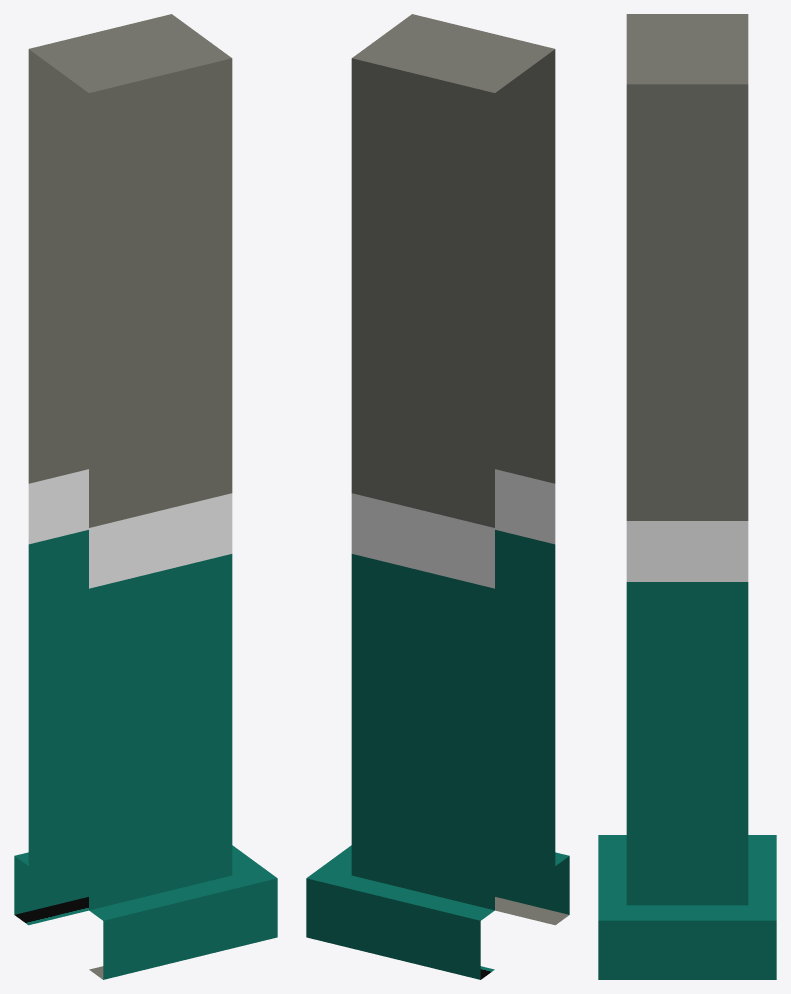
The model's file is IndoorWallEnd.fbx.
3 renders of one model, left to right at view 1: azimuth 30°, elevation 25°; view 2: azimuth 150°, elevation 25°; view 3: azimuth 270°, elevation 25°, orthographic.
Visible parts, largest first — view 1: InoorWall_End; view 2: InoorWall_End; view 3: InoorWall_End.
Part boxes in pixels (x1,y1,x2,y2): InoorWall_End: (14, 14, 277, 979); InoorWall_End: (306, 14, 569, 979); InoorWall_End: (598, 14, 776, 979).
Bounding box in the file's own units: 0.5 × 0.441 × 2.4.
Materials: 1 (1 with a texture image).
